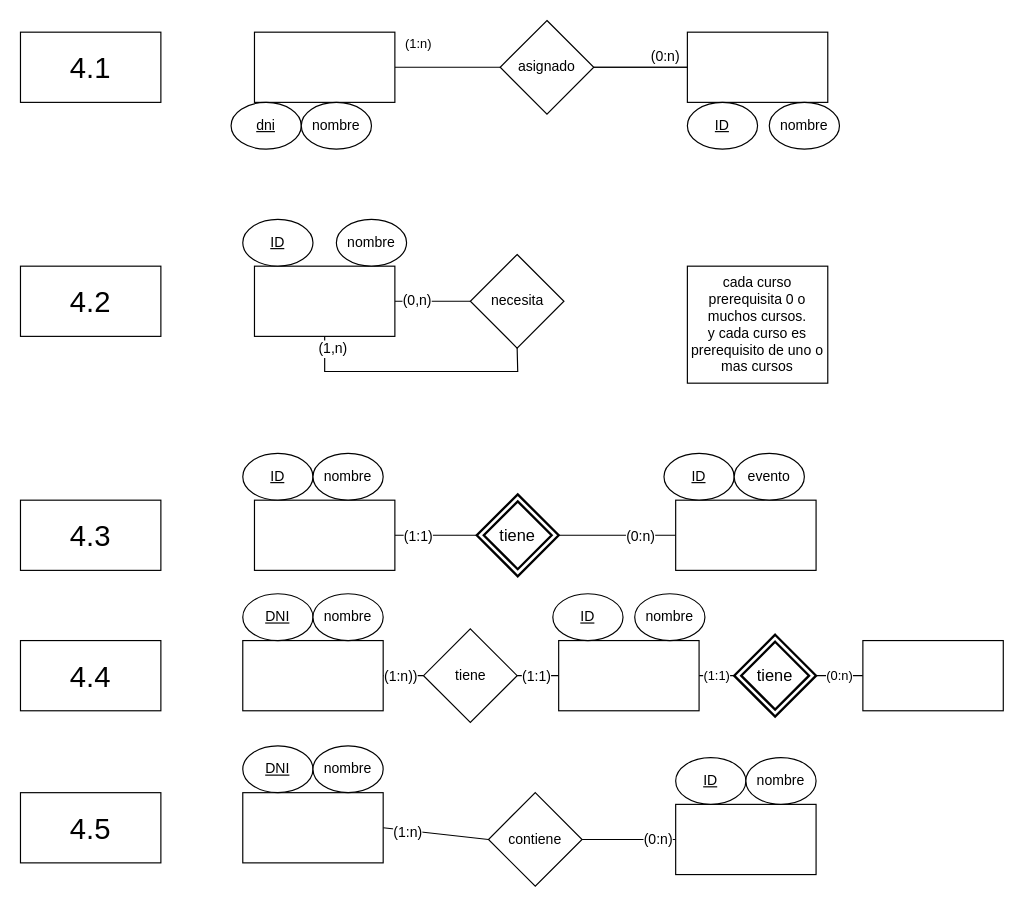
This 1024x907 diagram has some shape labels left out. The box of each missing label's shape, as (x1, y1, x2, y2) in pixels:
Curso: (253, 499, 395, 570)
Cursos: (253, 265, 395, 336)
empleado: (253, 31, 395, 102)
historial: (558, 639, 699, 711)
paciente: (242, 639, 383, 711)
pelicula: (675, 803, 816, 875)
proyecto: (686, 31, 828, 102)
registros: (862, 639, 1003, 711)
Sesion: (675, 499, 816, 570)
videoclub: (242, 792, 383, 863)
